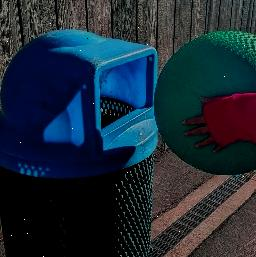algae: (151, 28, 256, 170)
